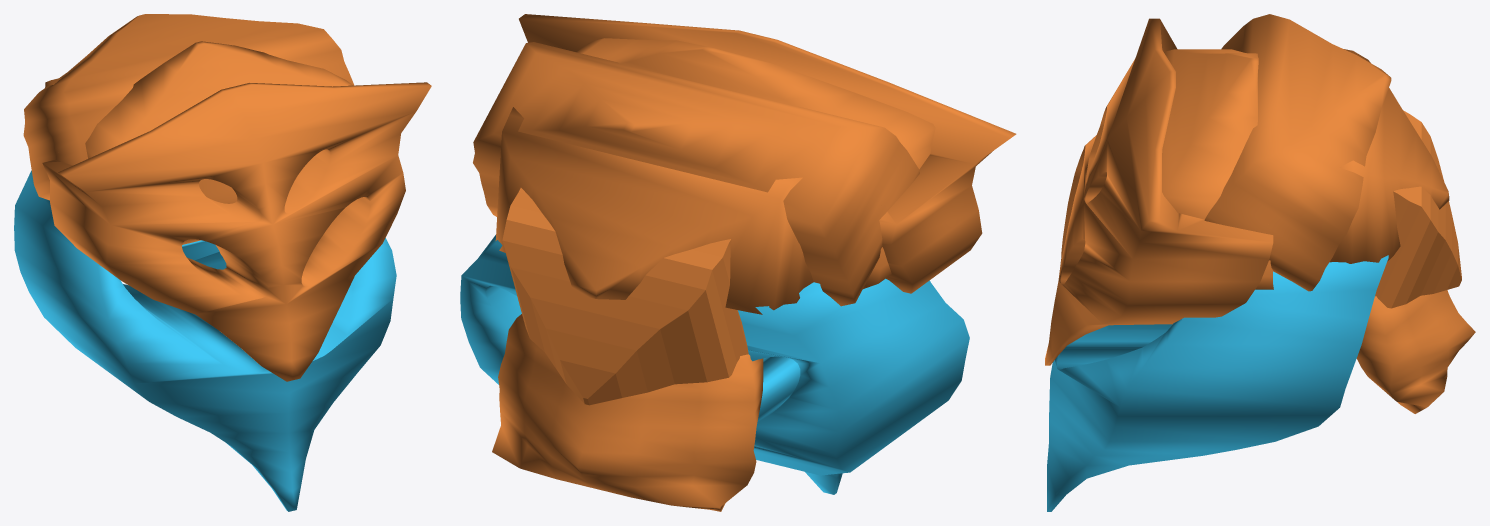
The model's file is helmet.fbx.
3 views of the same model, side by side, from view 1: azimuth 30°, elevation 25°; view 2: azimuth 150°, elevation 25°; view 3: azimuth 270°, elevation 25° (orthographic). The views are drawn at different scales.
Parts seen in each view (by area): view 1: Helmet01, Helmet.Bottom, Helmet002.001, Helmet002; view 2: Helmet002.001, Helmet.Bottom, Helmet002.002, Helmet.Back, Helmet002.003, Helmet01, Helmet002; view 3: Helmet.Bottom, Helmet01, Helmet002.001, Helmet002, Helmet.Back, Helmet002.002, Helmet002.003.
Boxes of the visible parts, bbox=[...] form: Helmet01: bbox=[42, 82, 431, 381]; Helmet.Bottom: bbox=[14, 170, 396, 511]; Helmet002.001: bbox=[23, 14, 354, 200]; Helmet002: bbox=[85, 41, 353, 244]; Helmet002.001: bbox=[473, 42, 919, 306]; Helmet.Bottom: bbox=[460, 235, 969, 494]; Helmet002.002: bbox=[495, 107, 813, 314]; Helmet.Back: bbox=[492, 314, 763, 511]; Helmet002.003: bbox=[502, 188, 748, 405]; Helmet01: bbox=[519, 14, 1016, 293]; Helmet002: bbox=[577, 38, 935, 288]; Helmet.Bottom: bbox=[1047, 255, 1388, 511]; Helmet01: bbox=[1045, 18, 1273, 365]; Helmet002.001: bbox=[1204, 14, 1391, 291]; Helmet002: bbox=[1162, 49, 1273, 289]; Helmet.Back: bbox=[1356, 290, 1475, 413]; Helmet002.002: bbox=[1330, 49, 1449, 263]; Helmet002.003: bbox=[1375, 110, 1461, 308].
Bounding box in the file's own units: 69.82 × 72.3 × 62.79.
